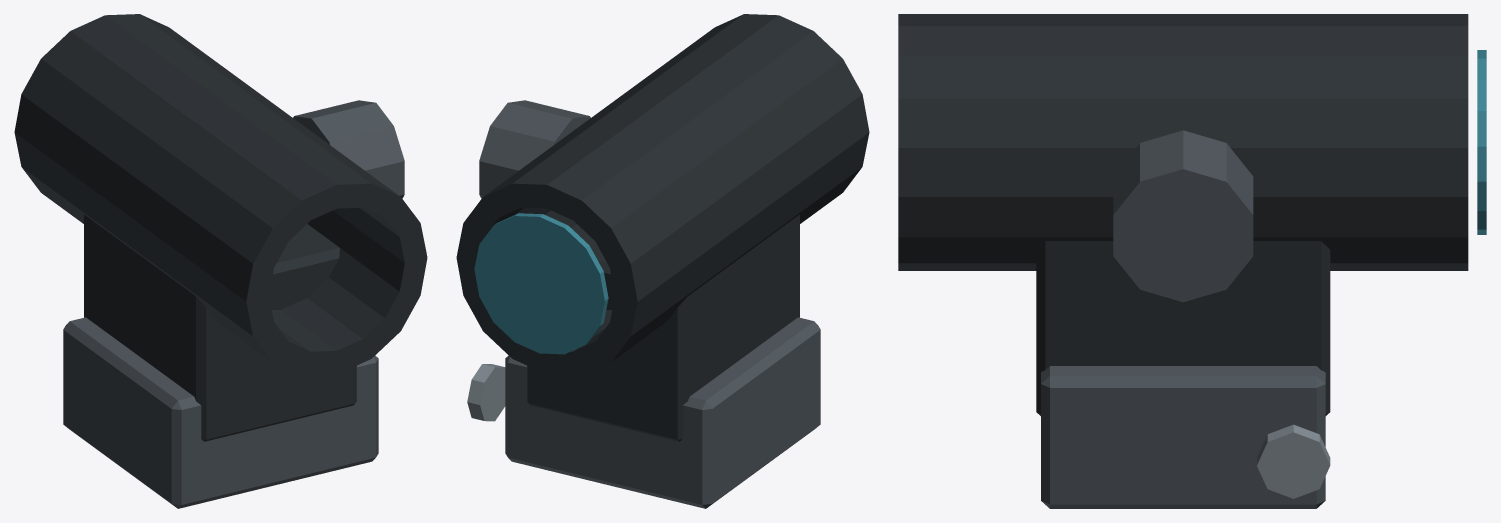
File: att_optic_micro_enclosed.glb
3 renders of one model, left to right at view 1: azimuth 30°, elevation 25°; view 2: azimuth 150°, elevation 25°; view 3: azimuth 270°, elevation 25°, orthographic. The views are drawn at different scales.
Visible parts, largest first — view 1: Geometry_att_optic_micro_enclosed; view 2: Geometry_att_optic_micro_enclosed; view 3: Geometry_att_optic_micro_enclosed.
Boxes of the visible parts, x1,y1,x2,y2 form: Geometry_att_optic_micro_enclosed: [14, 14, 427, 508]; Geometry_att_optic_micro_enclosed: [456, 14, 869, 508]; Geometry_att_optic_micro_enclosed: [898, 14, 1486, 508].
Size of the model in its own units: 0.04 by 0.051 by 0.064.
